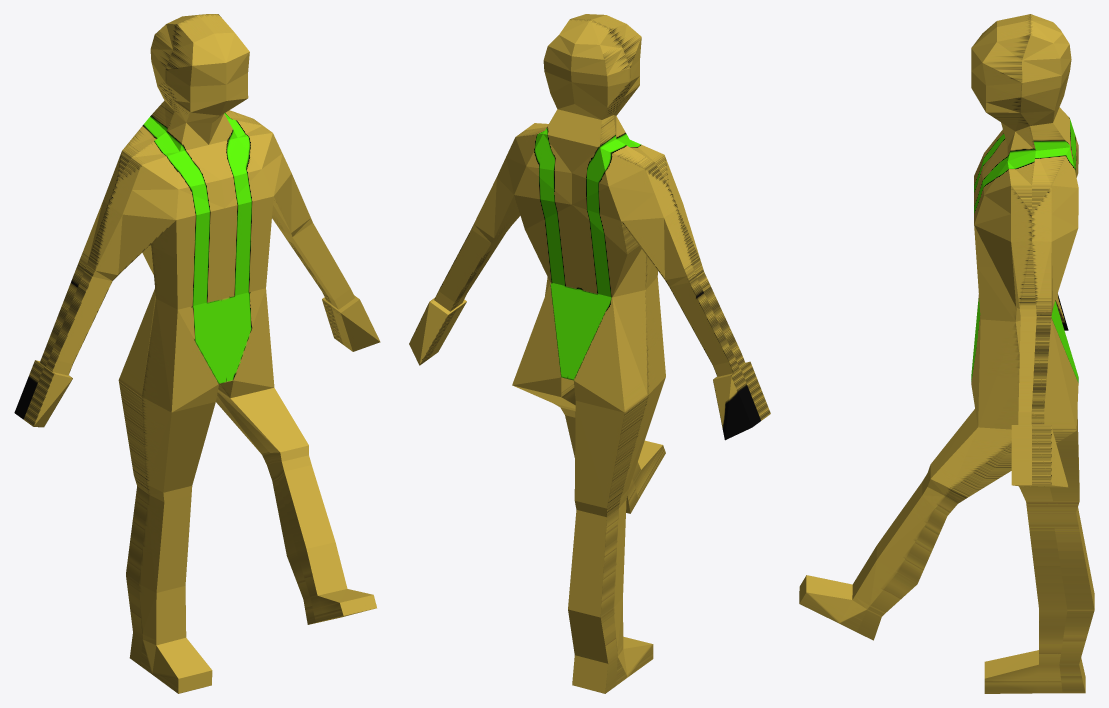
The picture shows the model from 3 angles, left to right: view 1: azimuth 30°, elevation 25°; view 2: azimuth 150°, elevation 25°; view 3: azimuth 270°, elevation 25°; orthographic projection. The views are drawn at different scales.
Visible parts, largest first — view 1: Borat; view 2: Borat; view 3: Borat.
Boxes of the visible parts, left/top/right/bottom form: Borat: left=14, top=14, right=380, bottom=693; Borat: left=409, top=14, right=770, bottom=693; Borat: left=799, top=14, right=1094, bottom=693.
Bounding box in the file's own units: 1.79 × 3.21 × 1.27.
